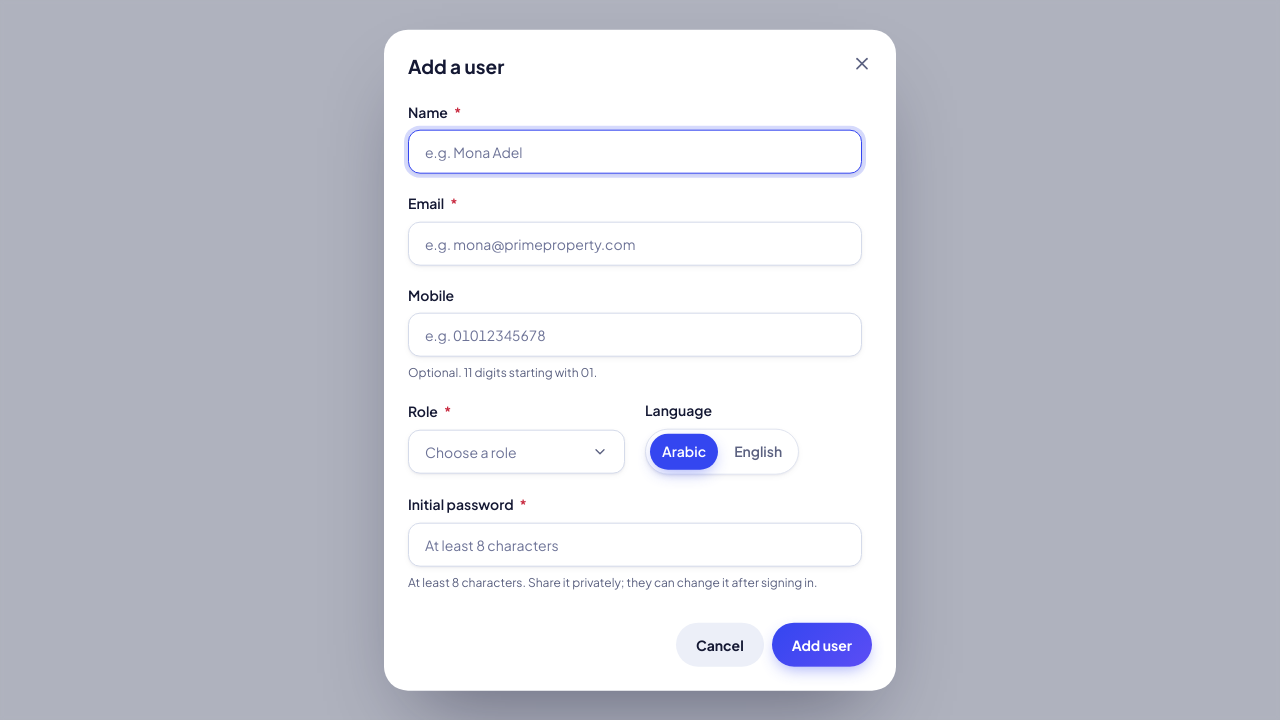
Test case: Create user › shows EMAIL_TAKEN on the email field
Type "Mona Adel" into the field with test id "user-name".
click(635, 152); type("Mona Adel")  # box [408, 130, 862, 174]
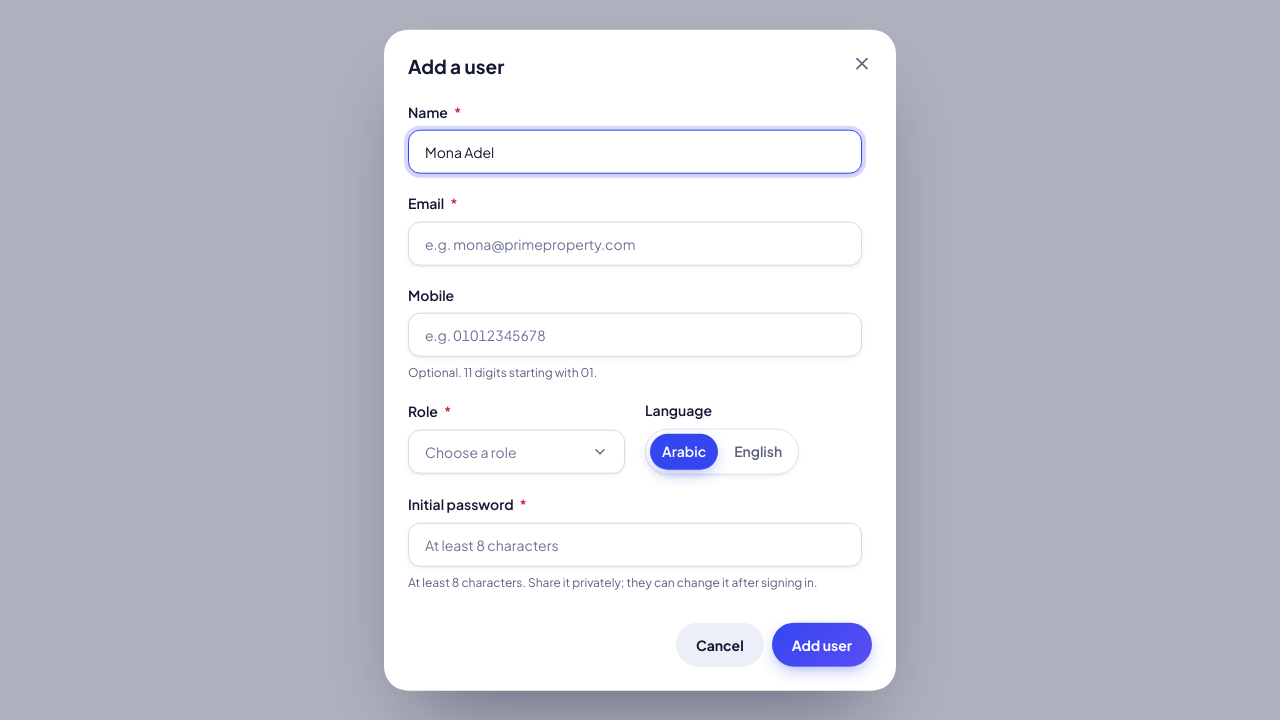
Type "SARA@prime.test" into the field with test id "user-email".
click(635, 244); type("SARA@prime.test")  # box [408, 222, 862, 266]
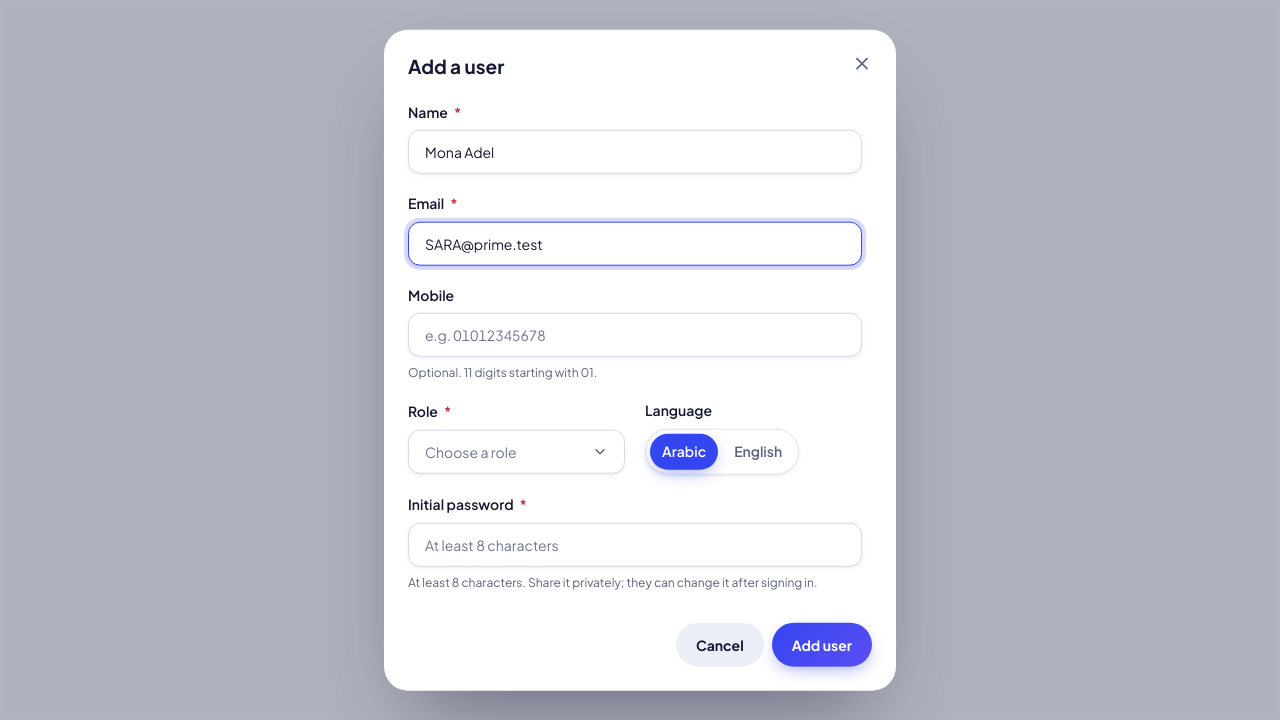
Click the dropdown with test id "user-role".
click(516, 452)  # box [408, 430, 625, 474]
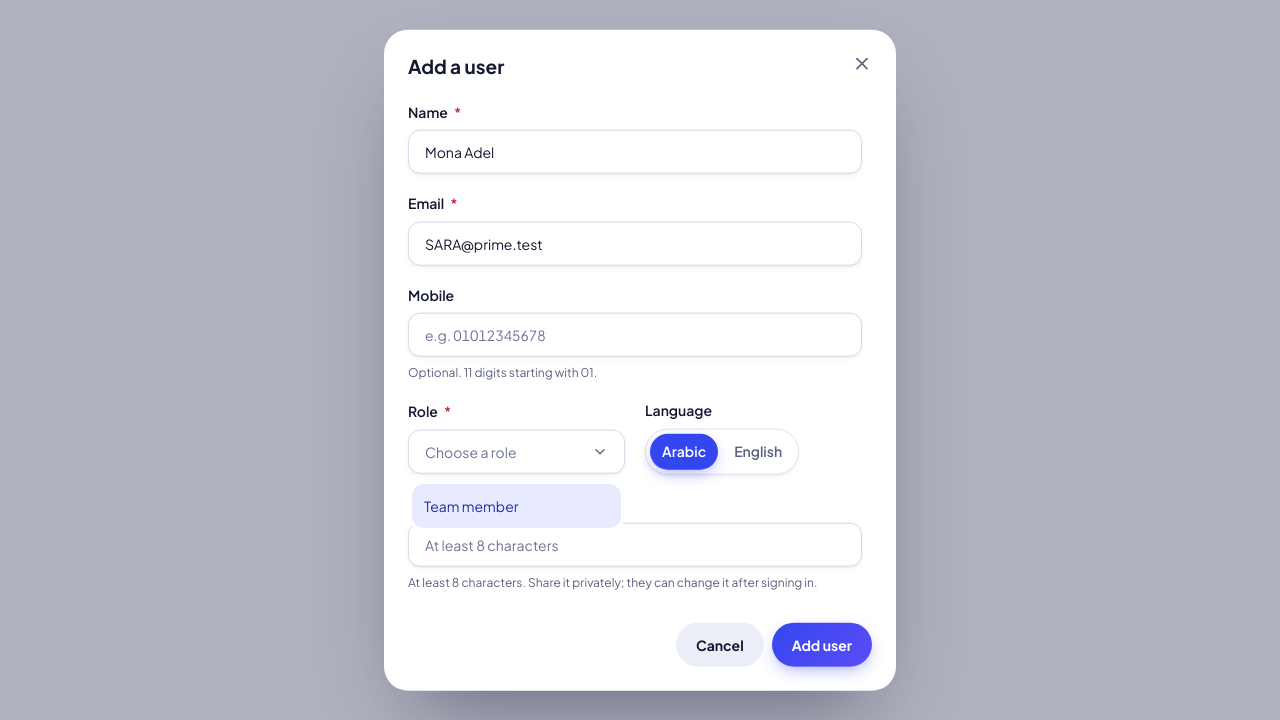
Click the option "Team member".
click(516, 506)  # box [412, 484, 621, 528]
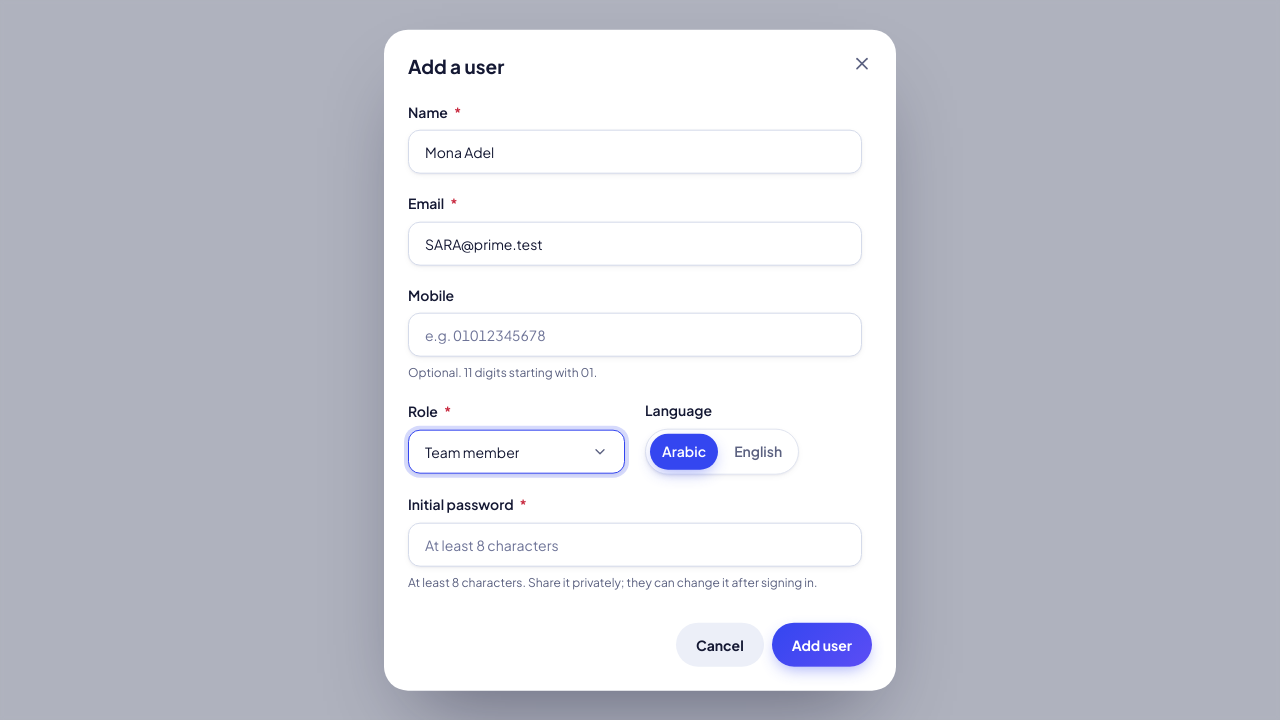
Type "Welcome@2026" into the field with test id "user-password".
click(635, 544); type("Welcome@2026")  # box [408, 522, 862, 566]
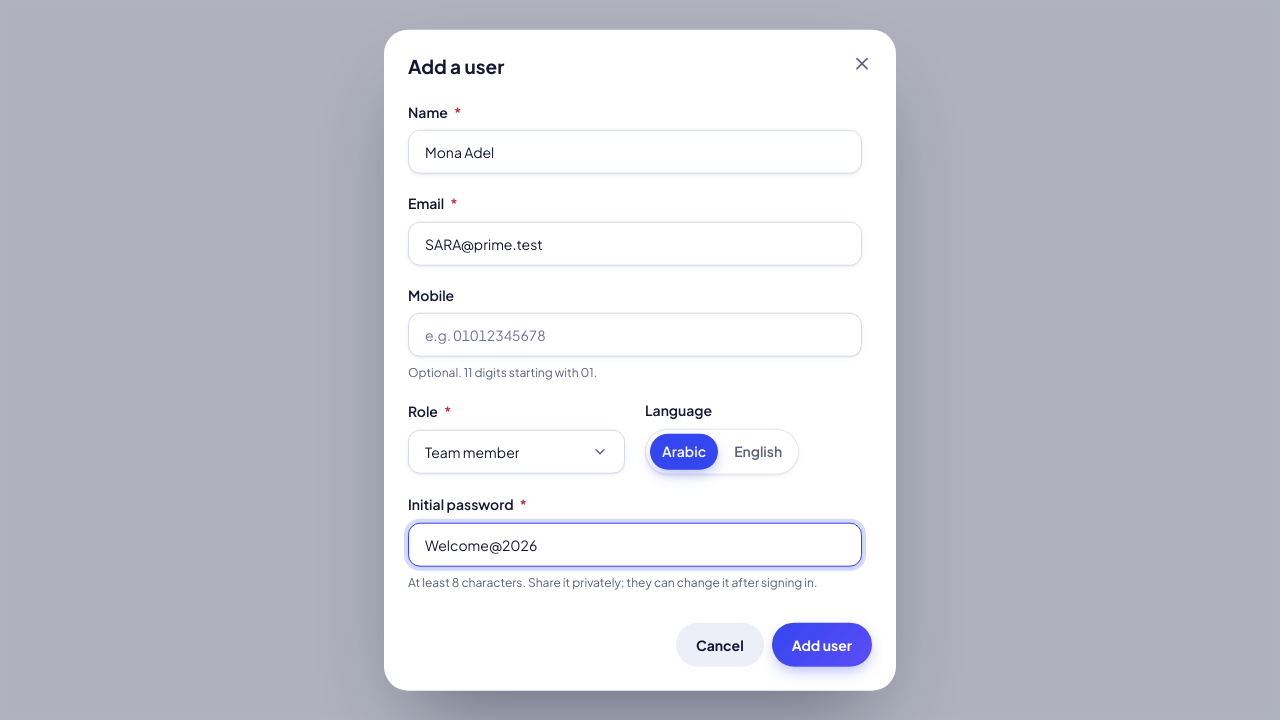
Click the button with test id "user-submit".
click(822, 644)  # box [772, 622, 872, 666]
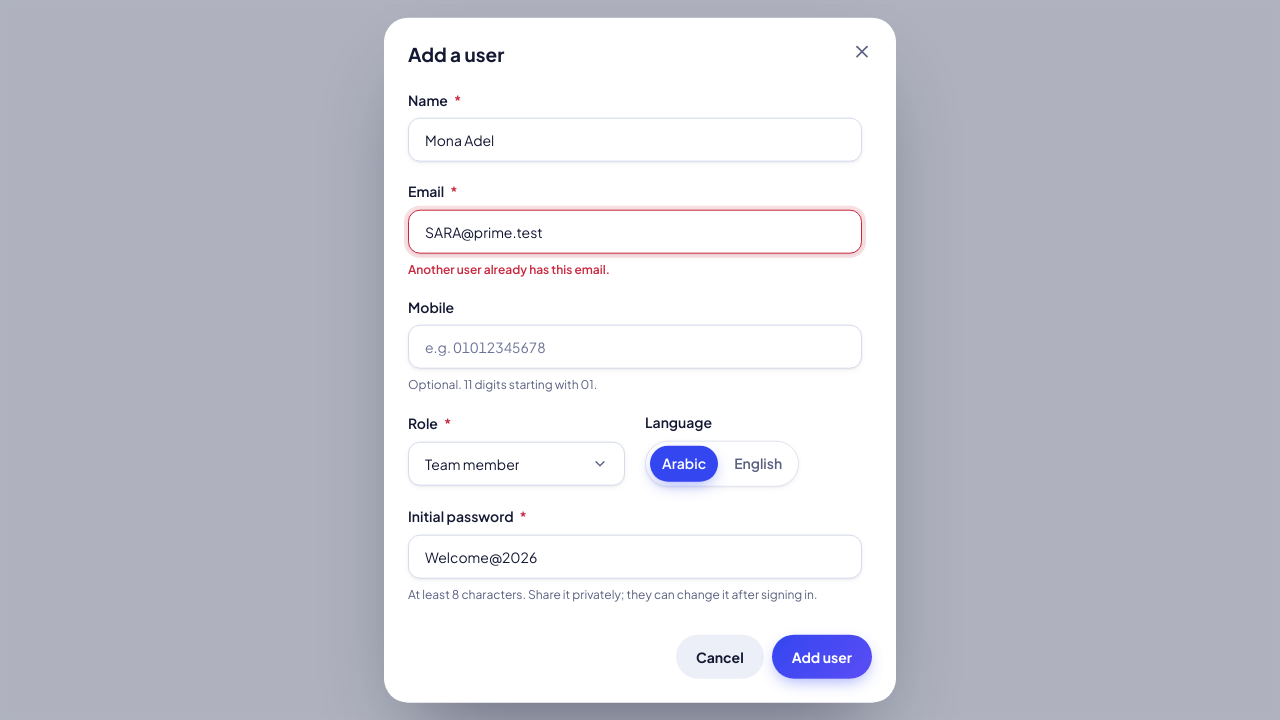
Check: the text "Another user already has this email." is shown, box [408, 262, 610, 276]
